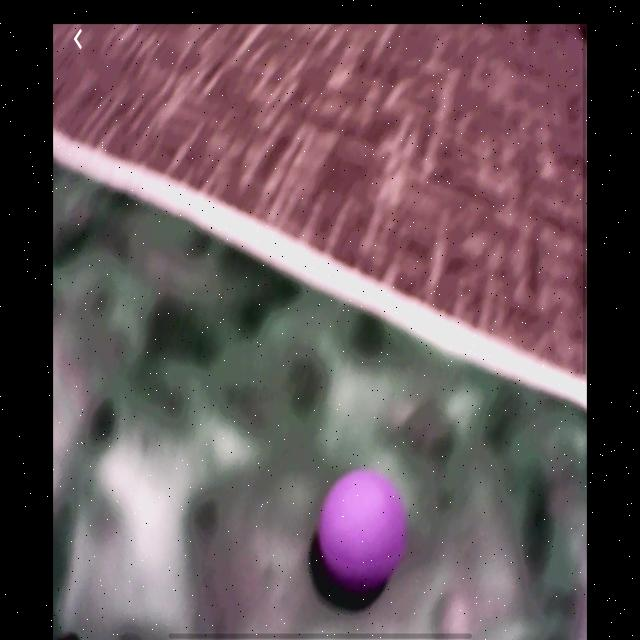ball: (317, 468, 409, 596)
